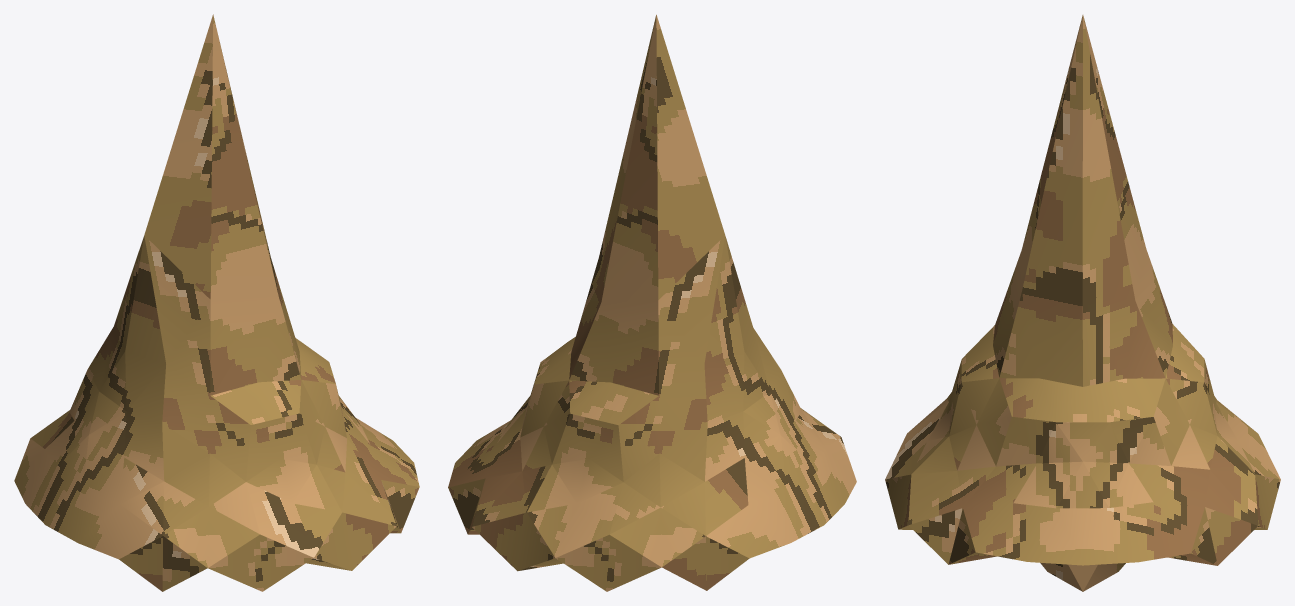
File: stalagmite-300-8.glb
3 renders of one model, left to right at view 1: azimuth 30°, elevation 25°; view 2: azimuth 150°, elevation 25°; view 3: azimuth 270°, elevation 25°, orthographic.
Size of the model in its own units: 0.6156 by 0.9067 by 0.6145.
1 material, 1 textured.
